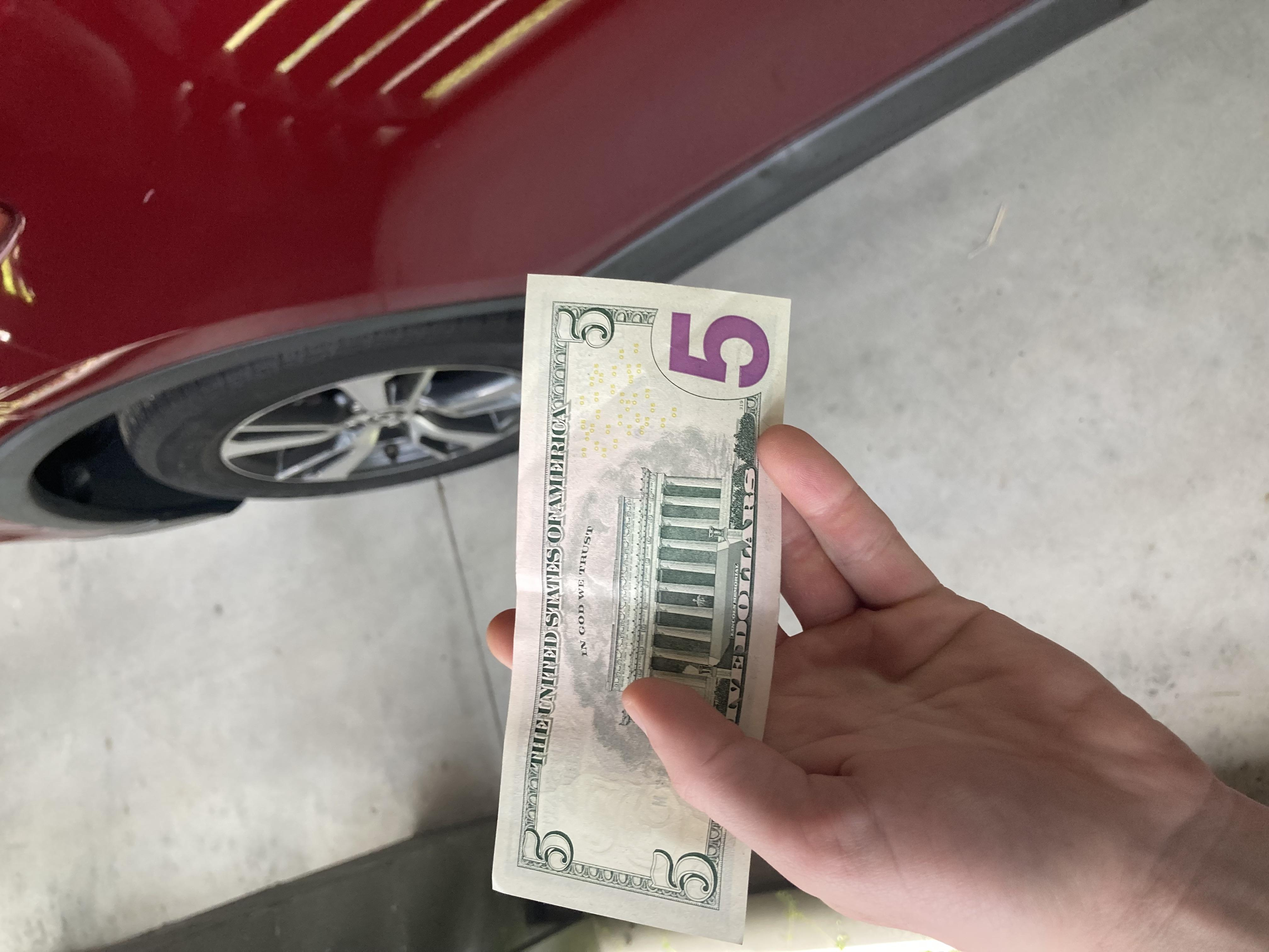five-back: (13, 370, 906, 595)
